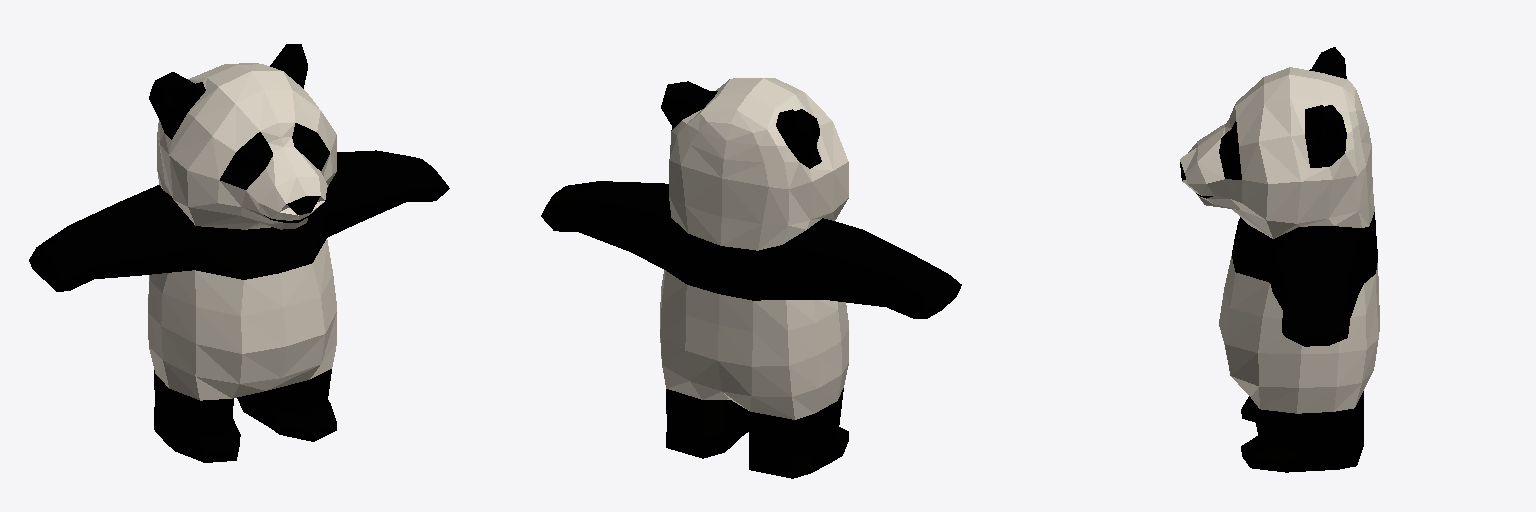
Rendered from Origami_Panda.obj.
The picture shows the model from 3 angles: view 1: azimuth 30°, elevation 25°; view 2: azimuth 150°, elevation 25°; view 3: azimuth 270°, elevation 25°; orthographic projection.
Parts seen in each view (by area): view 1: Plane; view 2: Plane; view 3: Plane.
Boxes of the visible parts, x1,y1,x2,y2 form: Plane: [29, 44, 449, 462]; Plane: [541, 78, 961, 478]; Plane: [1180, 47, 1379, 472].
Size of the model in its own units: 5.07 by 4.38 by 2.2.